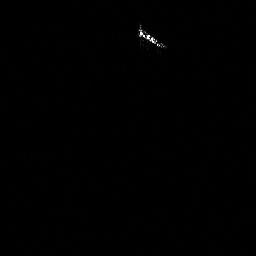ship: (134, 21, 170, 52)
